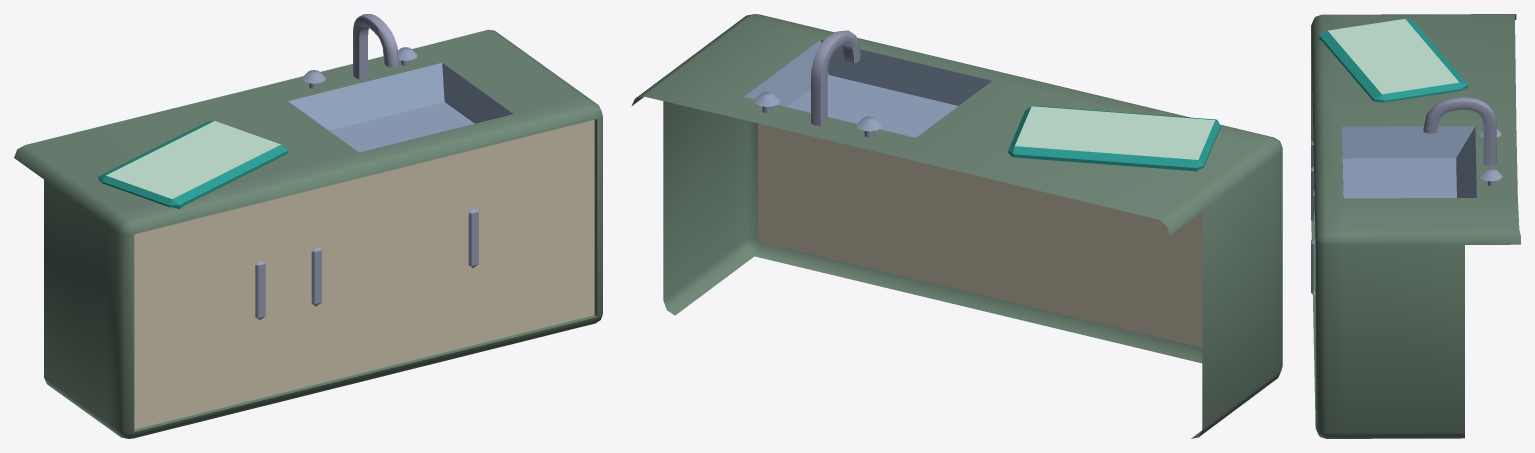
Rendered from Lavaplatos.glb.
3 views of the same model, side by side, from view 1: azimuth 30°, elevation 25°; view 2: azimuth 150°, elevation 25°; view 3: azimuth 270°, elevation 25° (orthographic). The views are drawn at different scales.
Parts seen in each view (by area): view 1: Lavaplatos; view 2: Lavaplatos; view 3: Lavaplatos.
Boxes of the visible parts, left/top/right/bottom form: Lavaplatos: left=14, top=14, right=602, bottom=438; Lavaplatos: left=631, top=14, right=1282, bottom=438; Lavaplatos: left=1311, top=14, right=1520, bottom=438.
Size of the model in its own units: 5.1 by 2.88 by 2.01.
